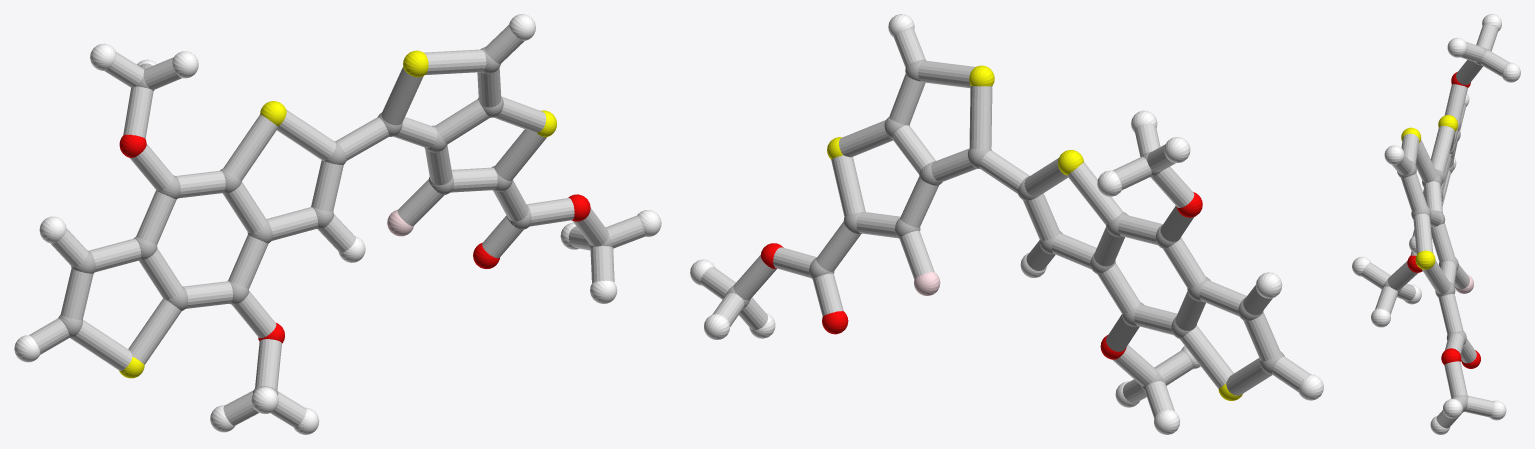
The model's file is color.glb.
The picture shows the model from 3 angles, left to right: view 1: azimuth 30°, elevation 25°; view 2: azimuth 150°, elevation 25°; view 3: azimuth 270°, elevation 25°; orthographic projection. The views are drawn at different scales.
Parts seen in each view (by area): view 1: grp15205, grp8689, grp1, grp7241, grp13395; view 2: grp15205, grp8689, grp1, grp13395, grp7241; view 3: grp15205, grp8689, grp1, grp7241, grp13395.
Part boxes in pixels (x1,y1,x2,y2): grp15205: (29, 25, 645, 427); grp8689: (14, 14, 661, 434); grp1: (58, 47, 612, 395); grp7241: (119, 50, 556, 378); grp13395: (119, 134, 590, 343); grp15205: (700, 29, 1310, 417); grp8689: (690, 14, 1323, 434); grp1: (726, 59, 1284, 391); grp13395: (760, 192, 1202, 359); grp7241: (827, 65, 1242, 400); grp15205: (1361, 24, 1509, 428); grp8689: (1352, 14, 1520, 434); grp1: (1383, 47, 1489, 412); grp7241: (1401, 115, 1458, 269); grp13395: (1407, 72, 1480, 368).
Bounding box in the file's own units: 16.44 × 8.83 × 5.07.
